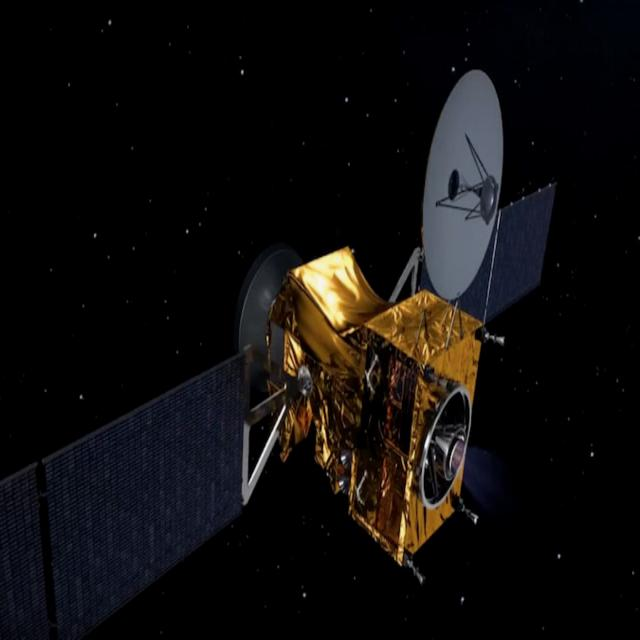medium_debris: (0, 58, 566, 634)
